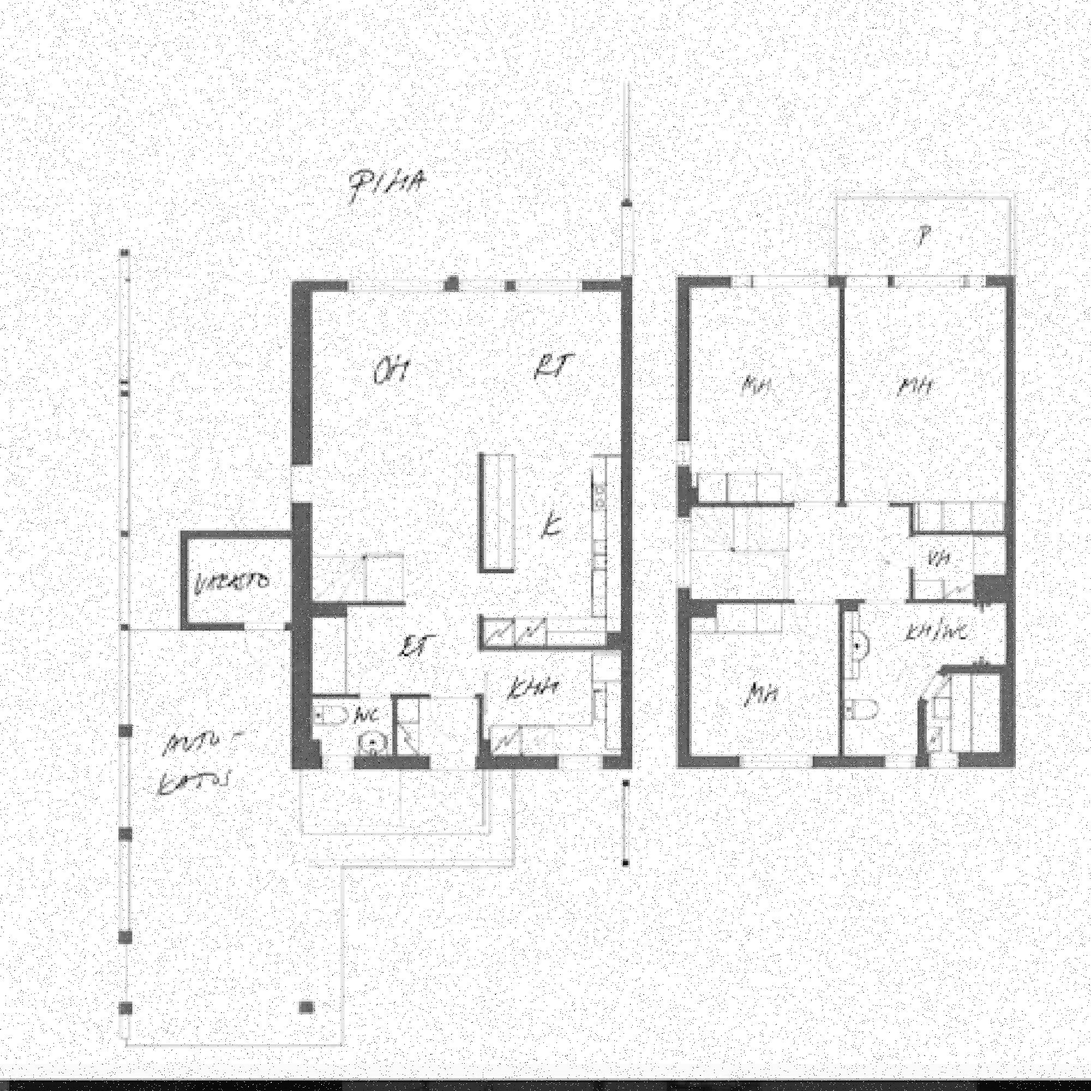wall: (293, 281, 310, 740), (622, 282, 631, 768), (679, 281, 688, 766), (293, 757, 631, 768), (1008, 281, 1016, 666), (293, 282, 631, 291), (679, 281, 1016, 290), (679, 757, 918, 766), (1001, 665, 1016, 766), (918, 753, 1016, 766), (918, 666, 949, 705), (973, 576, 1016, 602), (679, 599, 973, 602), (697, 502, 913, 506), (181, 622, 293, 629), (293, 603, 345, 616), (293, 741, 318, 768), (181, 531, 293, 537), (840, 281, 843, 504), (293, 695, 483, 698), (181, 531, 186, 629), (839, 610, 842, 766), (918, 702, 925, 766), (686, 602, 715, 617), (944, 666, 1016, 672), (607, 633, 631, 649), (480, 616, 483, 741), (480, 454, 483, 572), (679, 488, 697, 506), (913, 531, 1016, 534), (910, 502, 913, 602), (480, 741, 490, 768), (480, 647, 607, 649), (393, 695, 396, 768), (839, 599, 858, 610), (346, 603, 403, 606), (480, 569, 513, 572)
